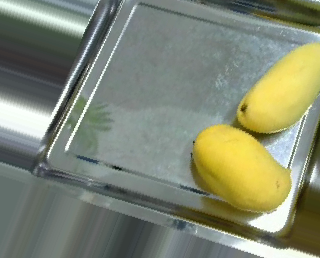Mango: (190, 121, 296, 220), (233, 37, 320, 133)
